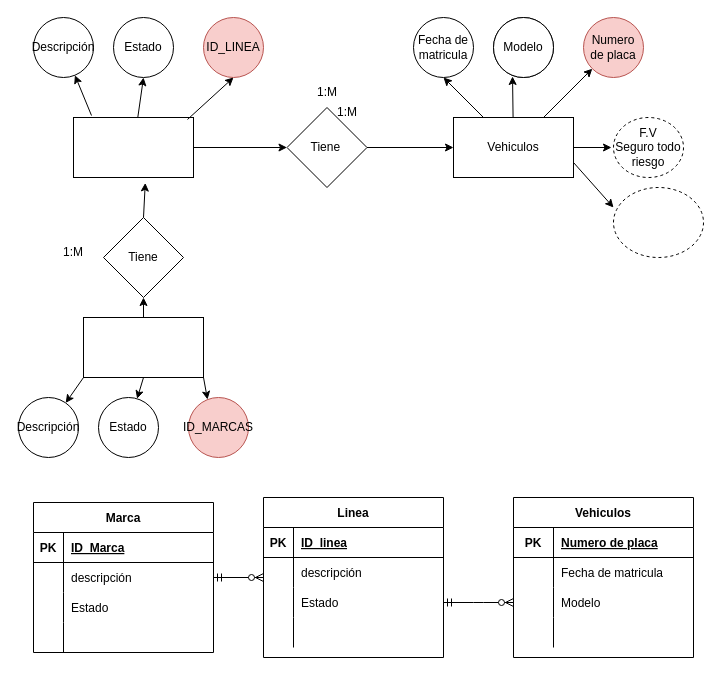
Image size: 721x675. Some labels were removed from this diagram. Each missing label, with the centre of its shape:
"F.V de tecno mecánica" belongs at point (658, 222).
"Lineal de Vehículos" belongs at point (133, 147).
"Marcas de Vehículo" belongs at point (143, 347).
